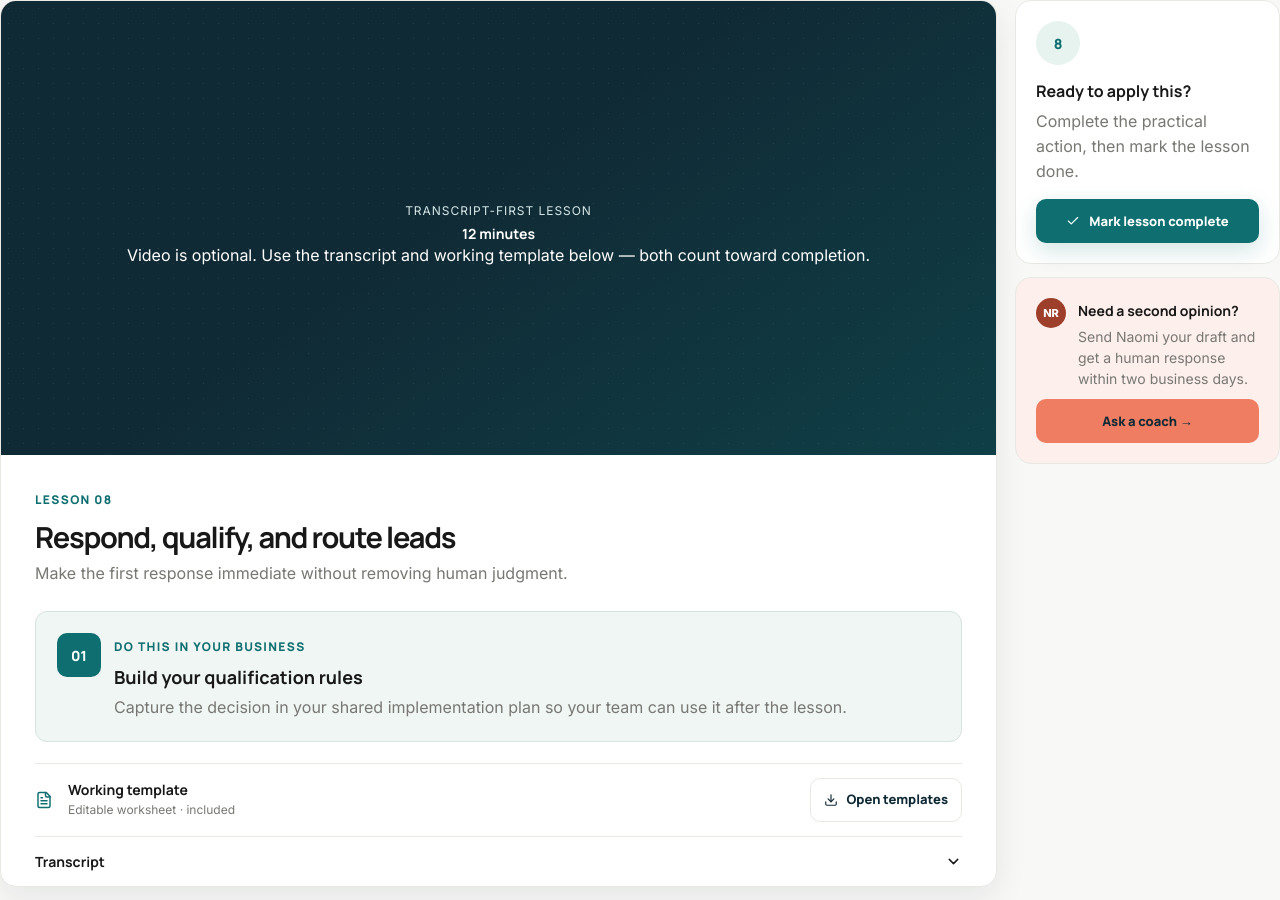
Test: LessonWorkspace › lets a member mark a practical lesson complete
Click the button "Mark lesson complete": (1148, 221) [1036, 199, 1259, 243]
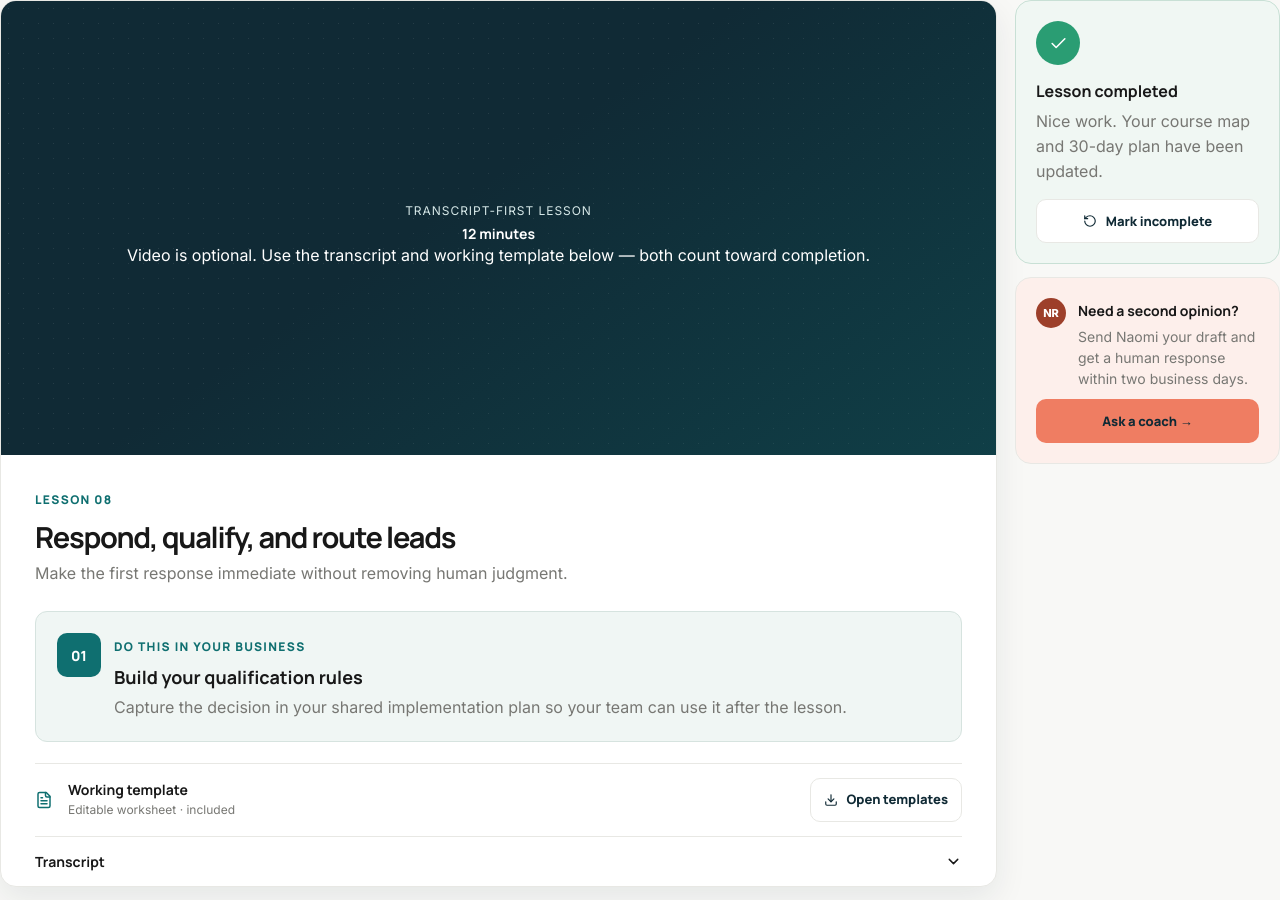
Now the heading "Lesson completed" is shown, box [1036, 80, 1178, 102]
